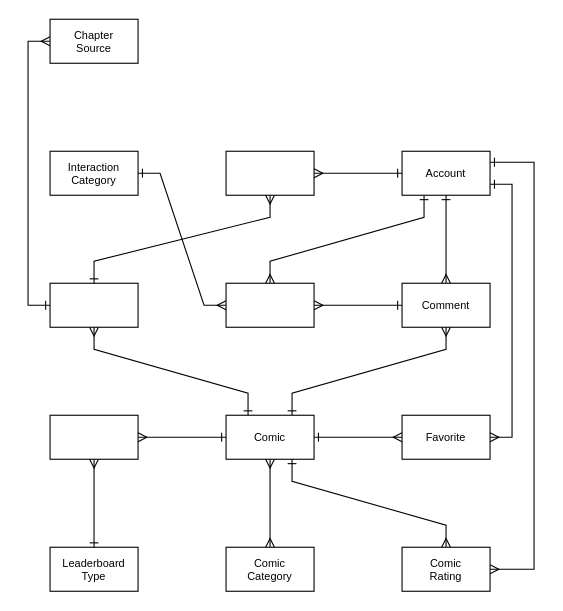
This 563x611 diagram has some shape labels left out. Each missing label, with the centre of its shape:
"Chapter" belongs at point 93,304.
"History" belongs at point 269,172.
"Interaction" belongs at point 269,304.
"Leaderboard" belongs at point 93,436.
